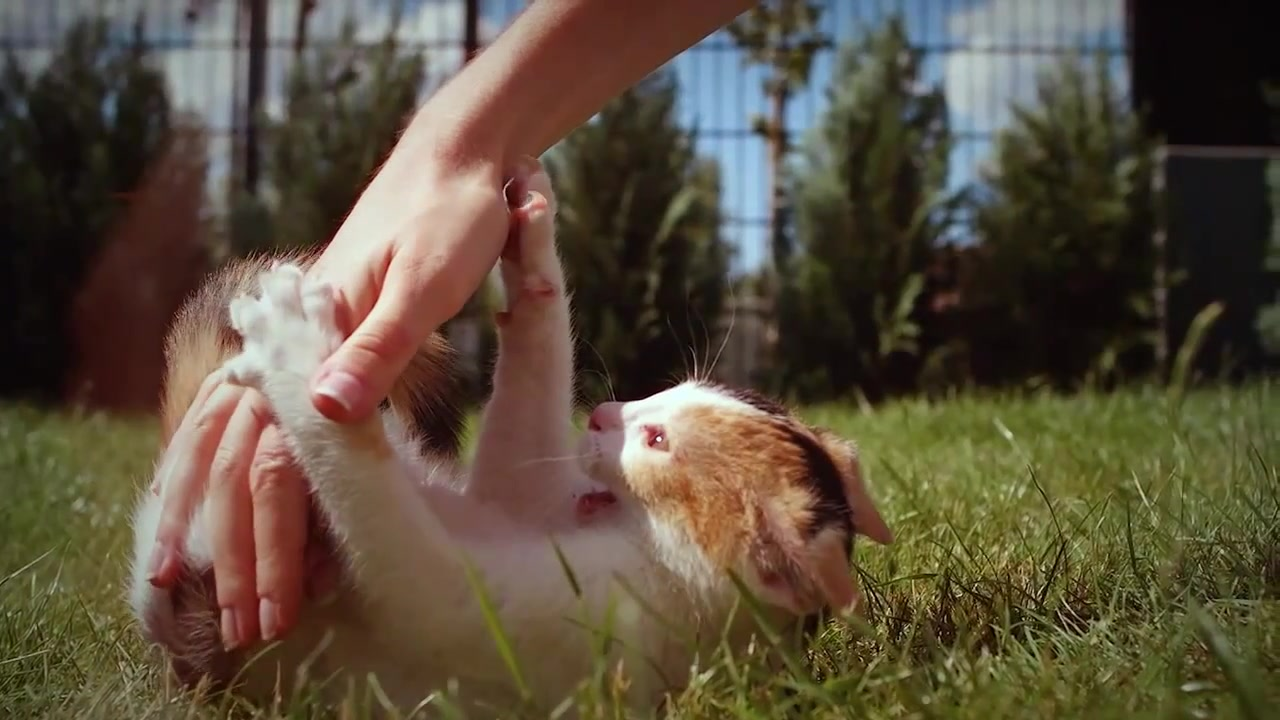cat: (125, 155, 895, 719)
